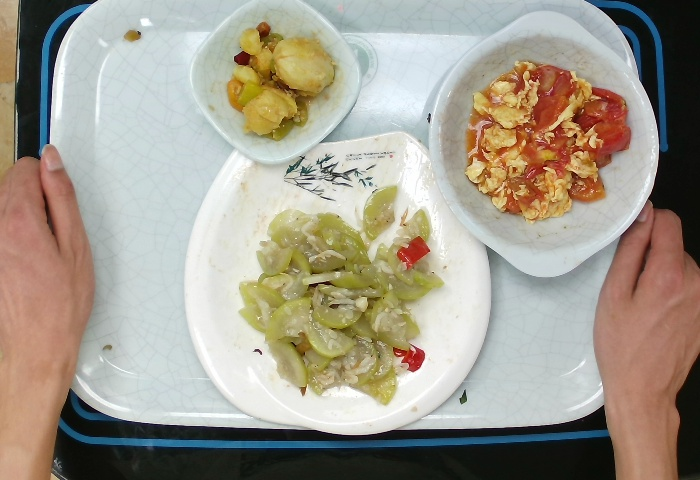JYsf-Mian_Pan: (181, 131, 495, 440)
JYsf-Shuang_Er_Wan: (427, 6, 660, 279)
JYsf-Si_Fang_Die: (188, 1, 362, 165)
